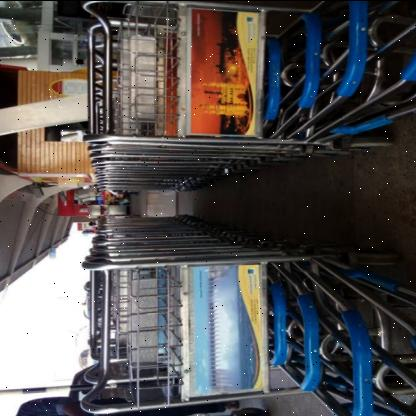airport-trolley: (80, 257, 416, 416), (81, 0, 416, 153)
